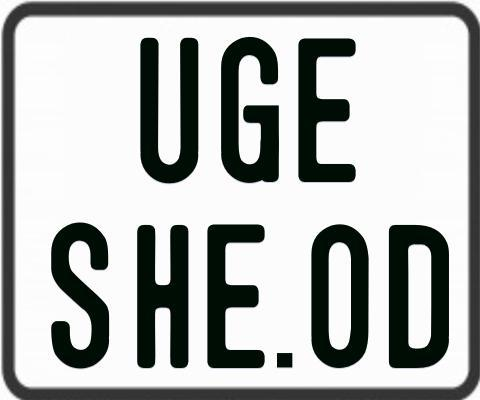0: (309, 222, 368, 366)
D: (386, 225, 452, 368)
E: (206, 222, 270, 371), (295, 35, 355, 180)
G: (218, 36, 279, 187)
H: (137, 224, 188, 373)
S: (51, 221, 109, 368)
U: (139, 35, 203, 183)
